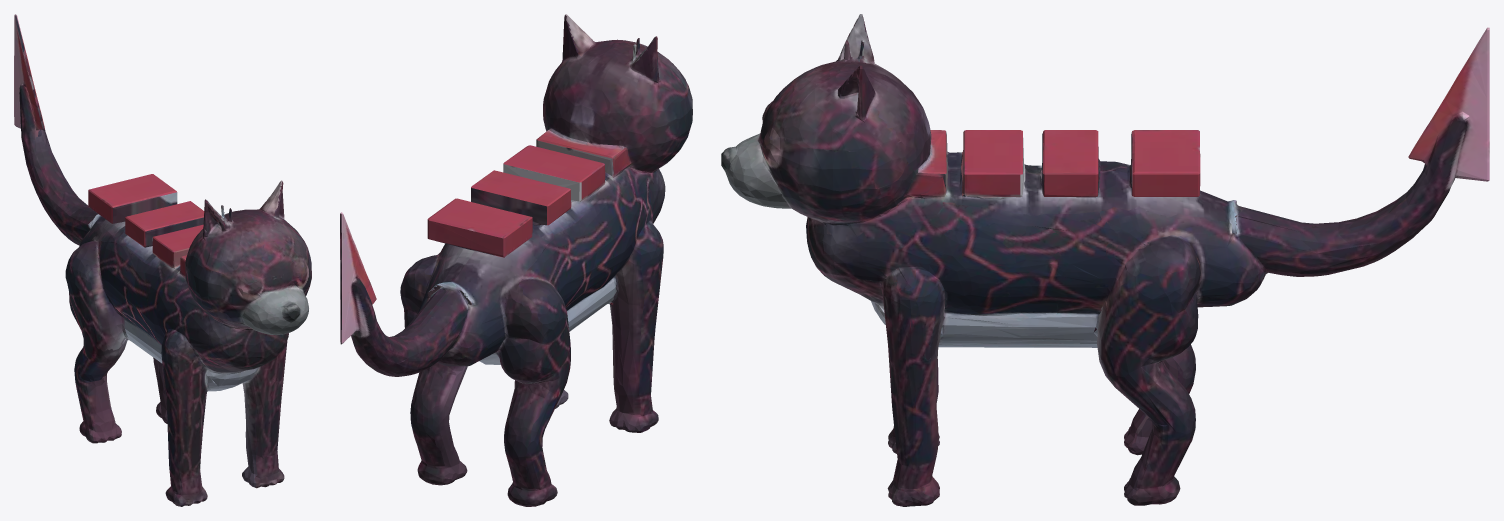
The model's file is creature-049.lod.glb.
3 views of the same model, side by side, from view 1: azimuth 30°, elevation 25°; view 2: azimuth 150°, elevation 25°; view 3: azimuth 270°, elevation 25° (orthographic). The views are drawn at different scales.
Parts seen in each view (by area): view 1: tmpllcz6ybg.ply; view 2: tmpllcz6ybg.ply; view 3: tmpllcz6ybg.ply.
Boxes of the visible parts, x1=… form: tmpllcz6ybg.ply: x1=14, y1=14, x2=311, y2=506; tmpllcz6ybg.ply: x1=340, y1=14, x2=692, y2=506; tmpllcz6ybg.ply: x1=721, y1=14, x2=1489, y2=506.
Bounding box in the file's own units: 0.5334 × 1.27 × 1.99.
1 material, 1 textured.
